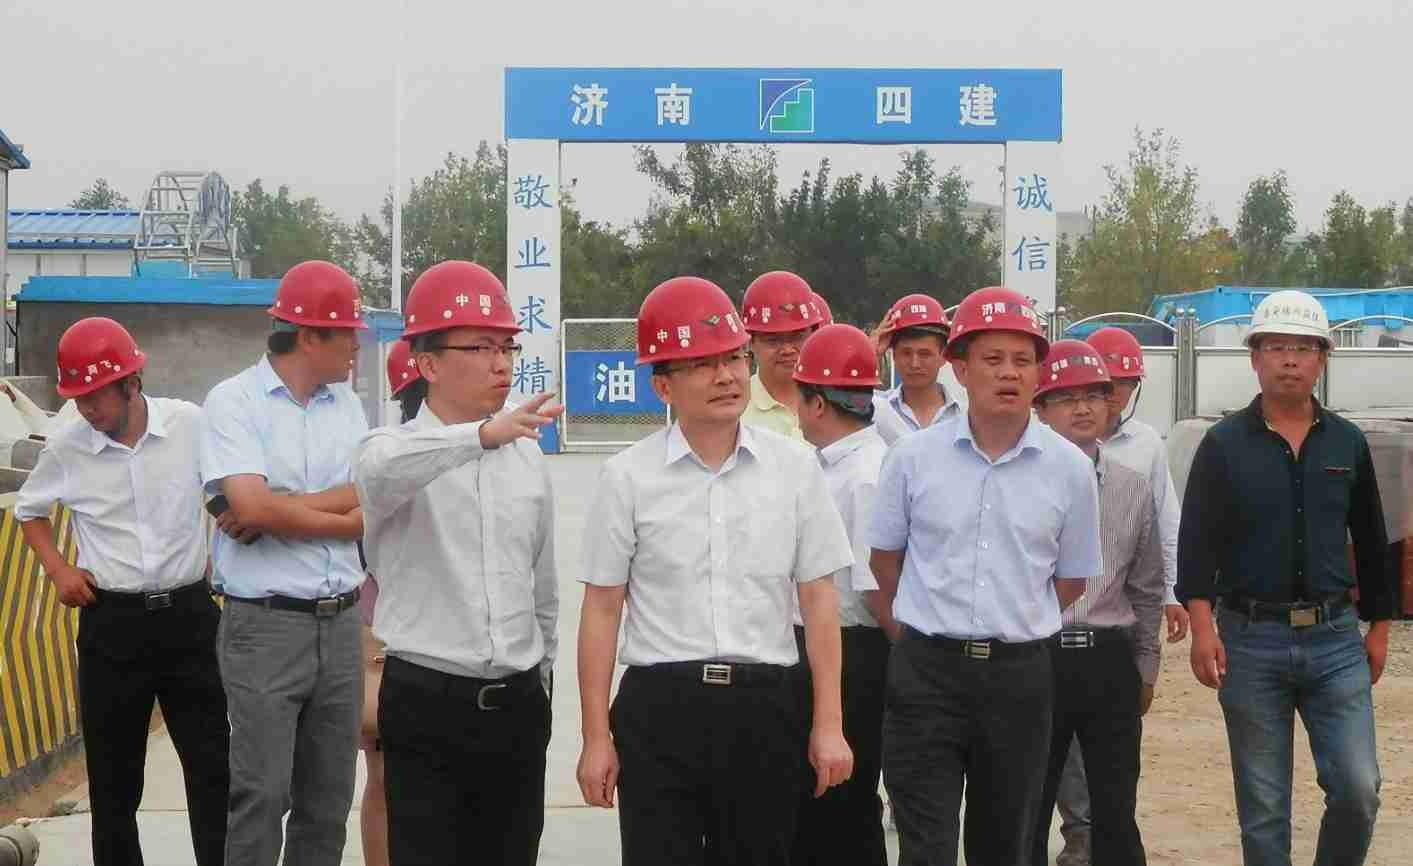red: (404, 254, 525, 420), (630, 268, 753, 430), (943, 281, 1048, 427), (48, 314, 148, 436), (268, 259, 365, 384), (1022, 331, 1113, 451), (789, 321, 881, 438), (738, 263, 820, 384), (880, 290, 952, 391), (1085, 319, 1145, 417)
white: (1238, 284, 1341, 409)
